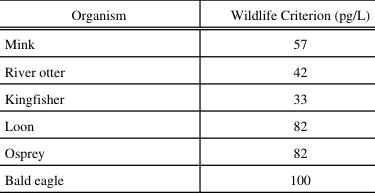table: (3, 4, 369, 188)
table column: (177, 4, 369, 188), (3, 4, 177, 188)
table column header: (3, 4, 369, 28)
table row: (3, 28, 369, 56), (3, 110, 369, 138), (3, 56, 369, 83), (3, 83, 369, 110), (3, 138, 369, 165), (3, 4, 369, 28), (3, 165, 369, 188)
